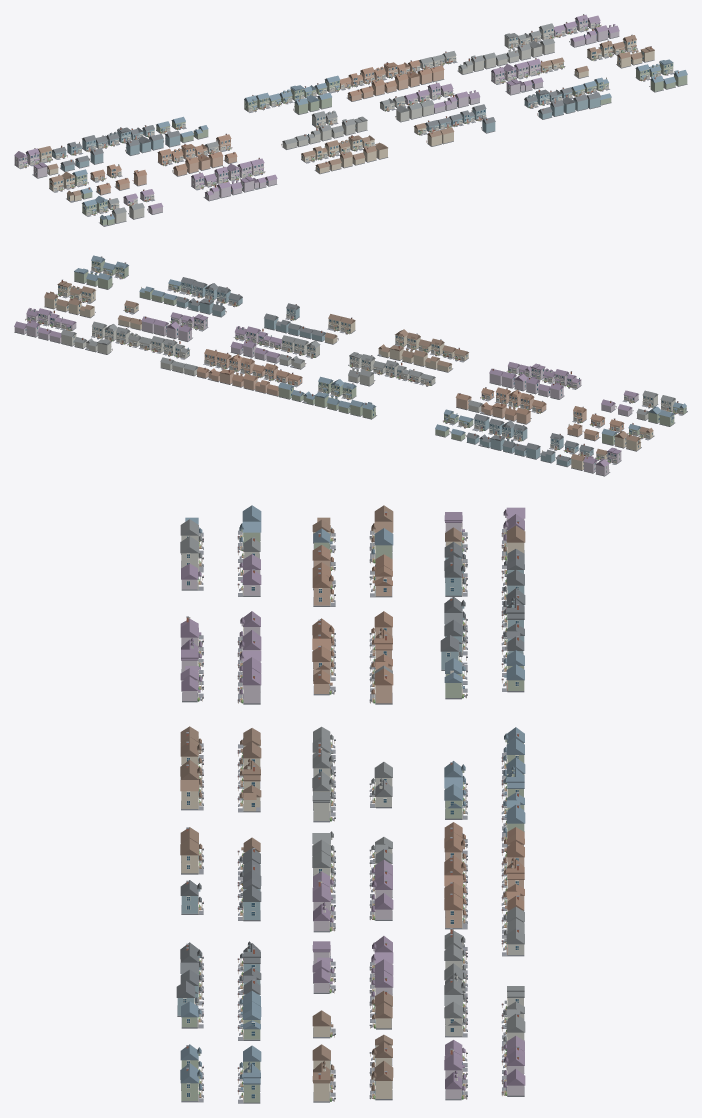
The model's file is southline.glb.
3 renders of one model, top to bottom at view 1: azimuth 30°, elevation 25°; view 2: azimuth 150°, elevation 25°; view 3: azimuth 270°, elevation 25°, orthographic. The views are drawn at different scales.
Bounding box in the file's own units: 371 × 8.35 × 95.11.
